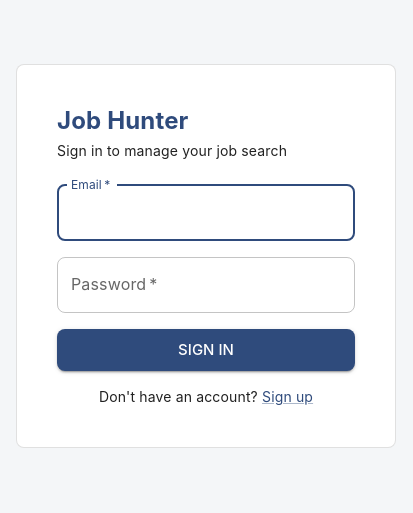
Test: switching between sign in and sign up › goes from Sign in to Sign up and back
Click the link "Sign up". click: click(288, 397)
box: [262, 388, 313, 405]
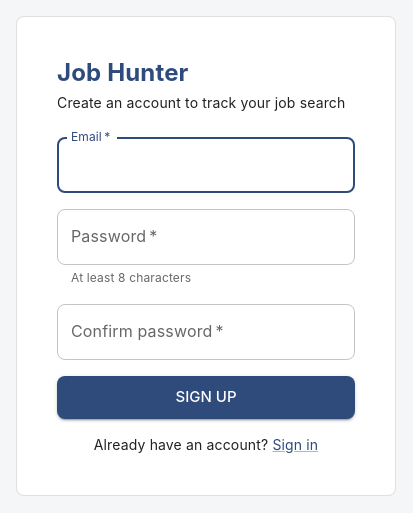
Result: the text "Create an account to track your job search" is shown at [57, 93, 355, 113]
Result: the button "Sign up" is shown at [57, 376, 355, 419]
Result: the password field labelled "Confirm password *" is shown at [57, 304, 355, 360]
Click the link "Sign in". click: click(295, 444)
box: [272, 436, 318, 453]
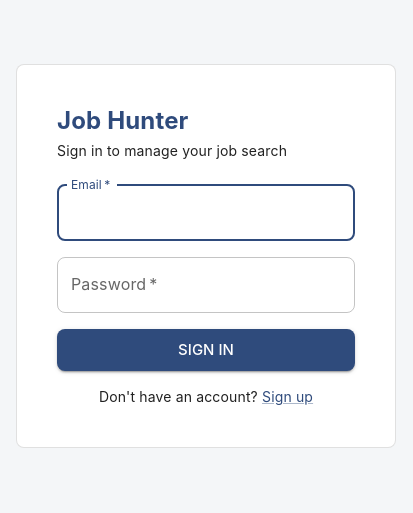
Result: the text "Sign in to manage your job search" is shown at [57, 142, 287, 159]
Result: the label labelled "Confirm password" is gone
